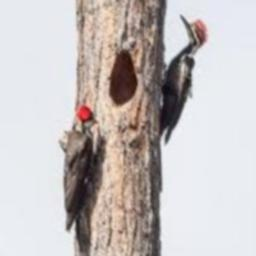Woodpecker: (159, 12, 208, 144), (63, 105, 100, 256)
